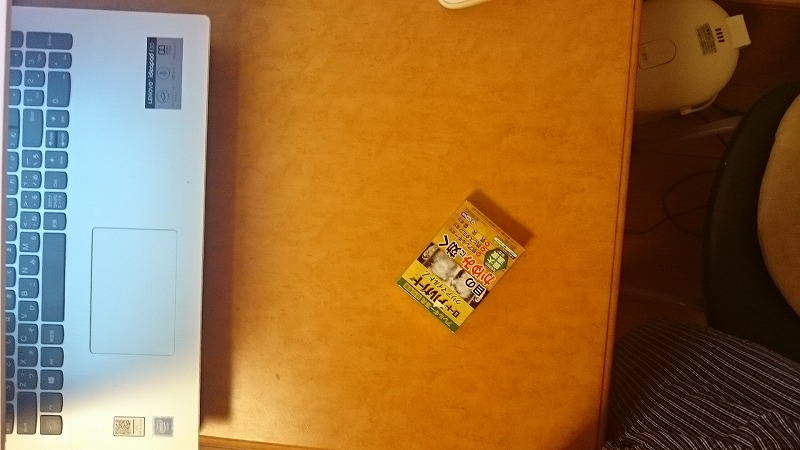C: (390, 191, 533, 341)
